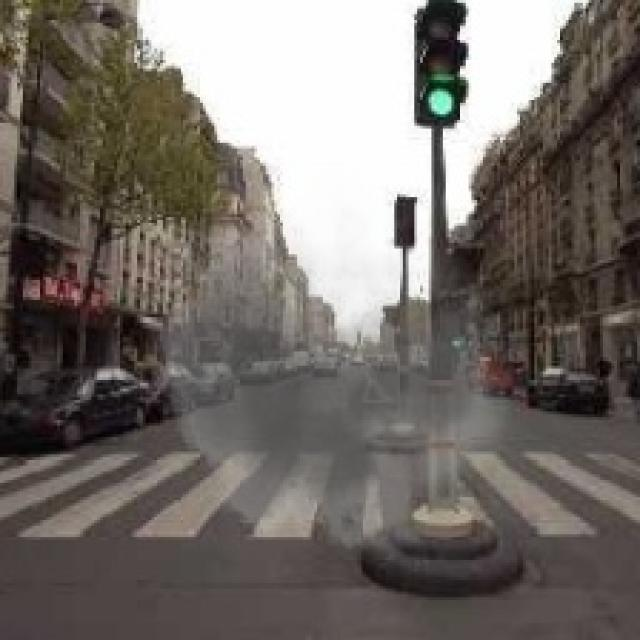smoke: (134, 163, 517, 571)
